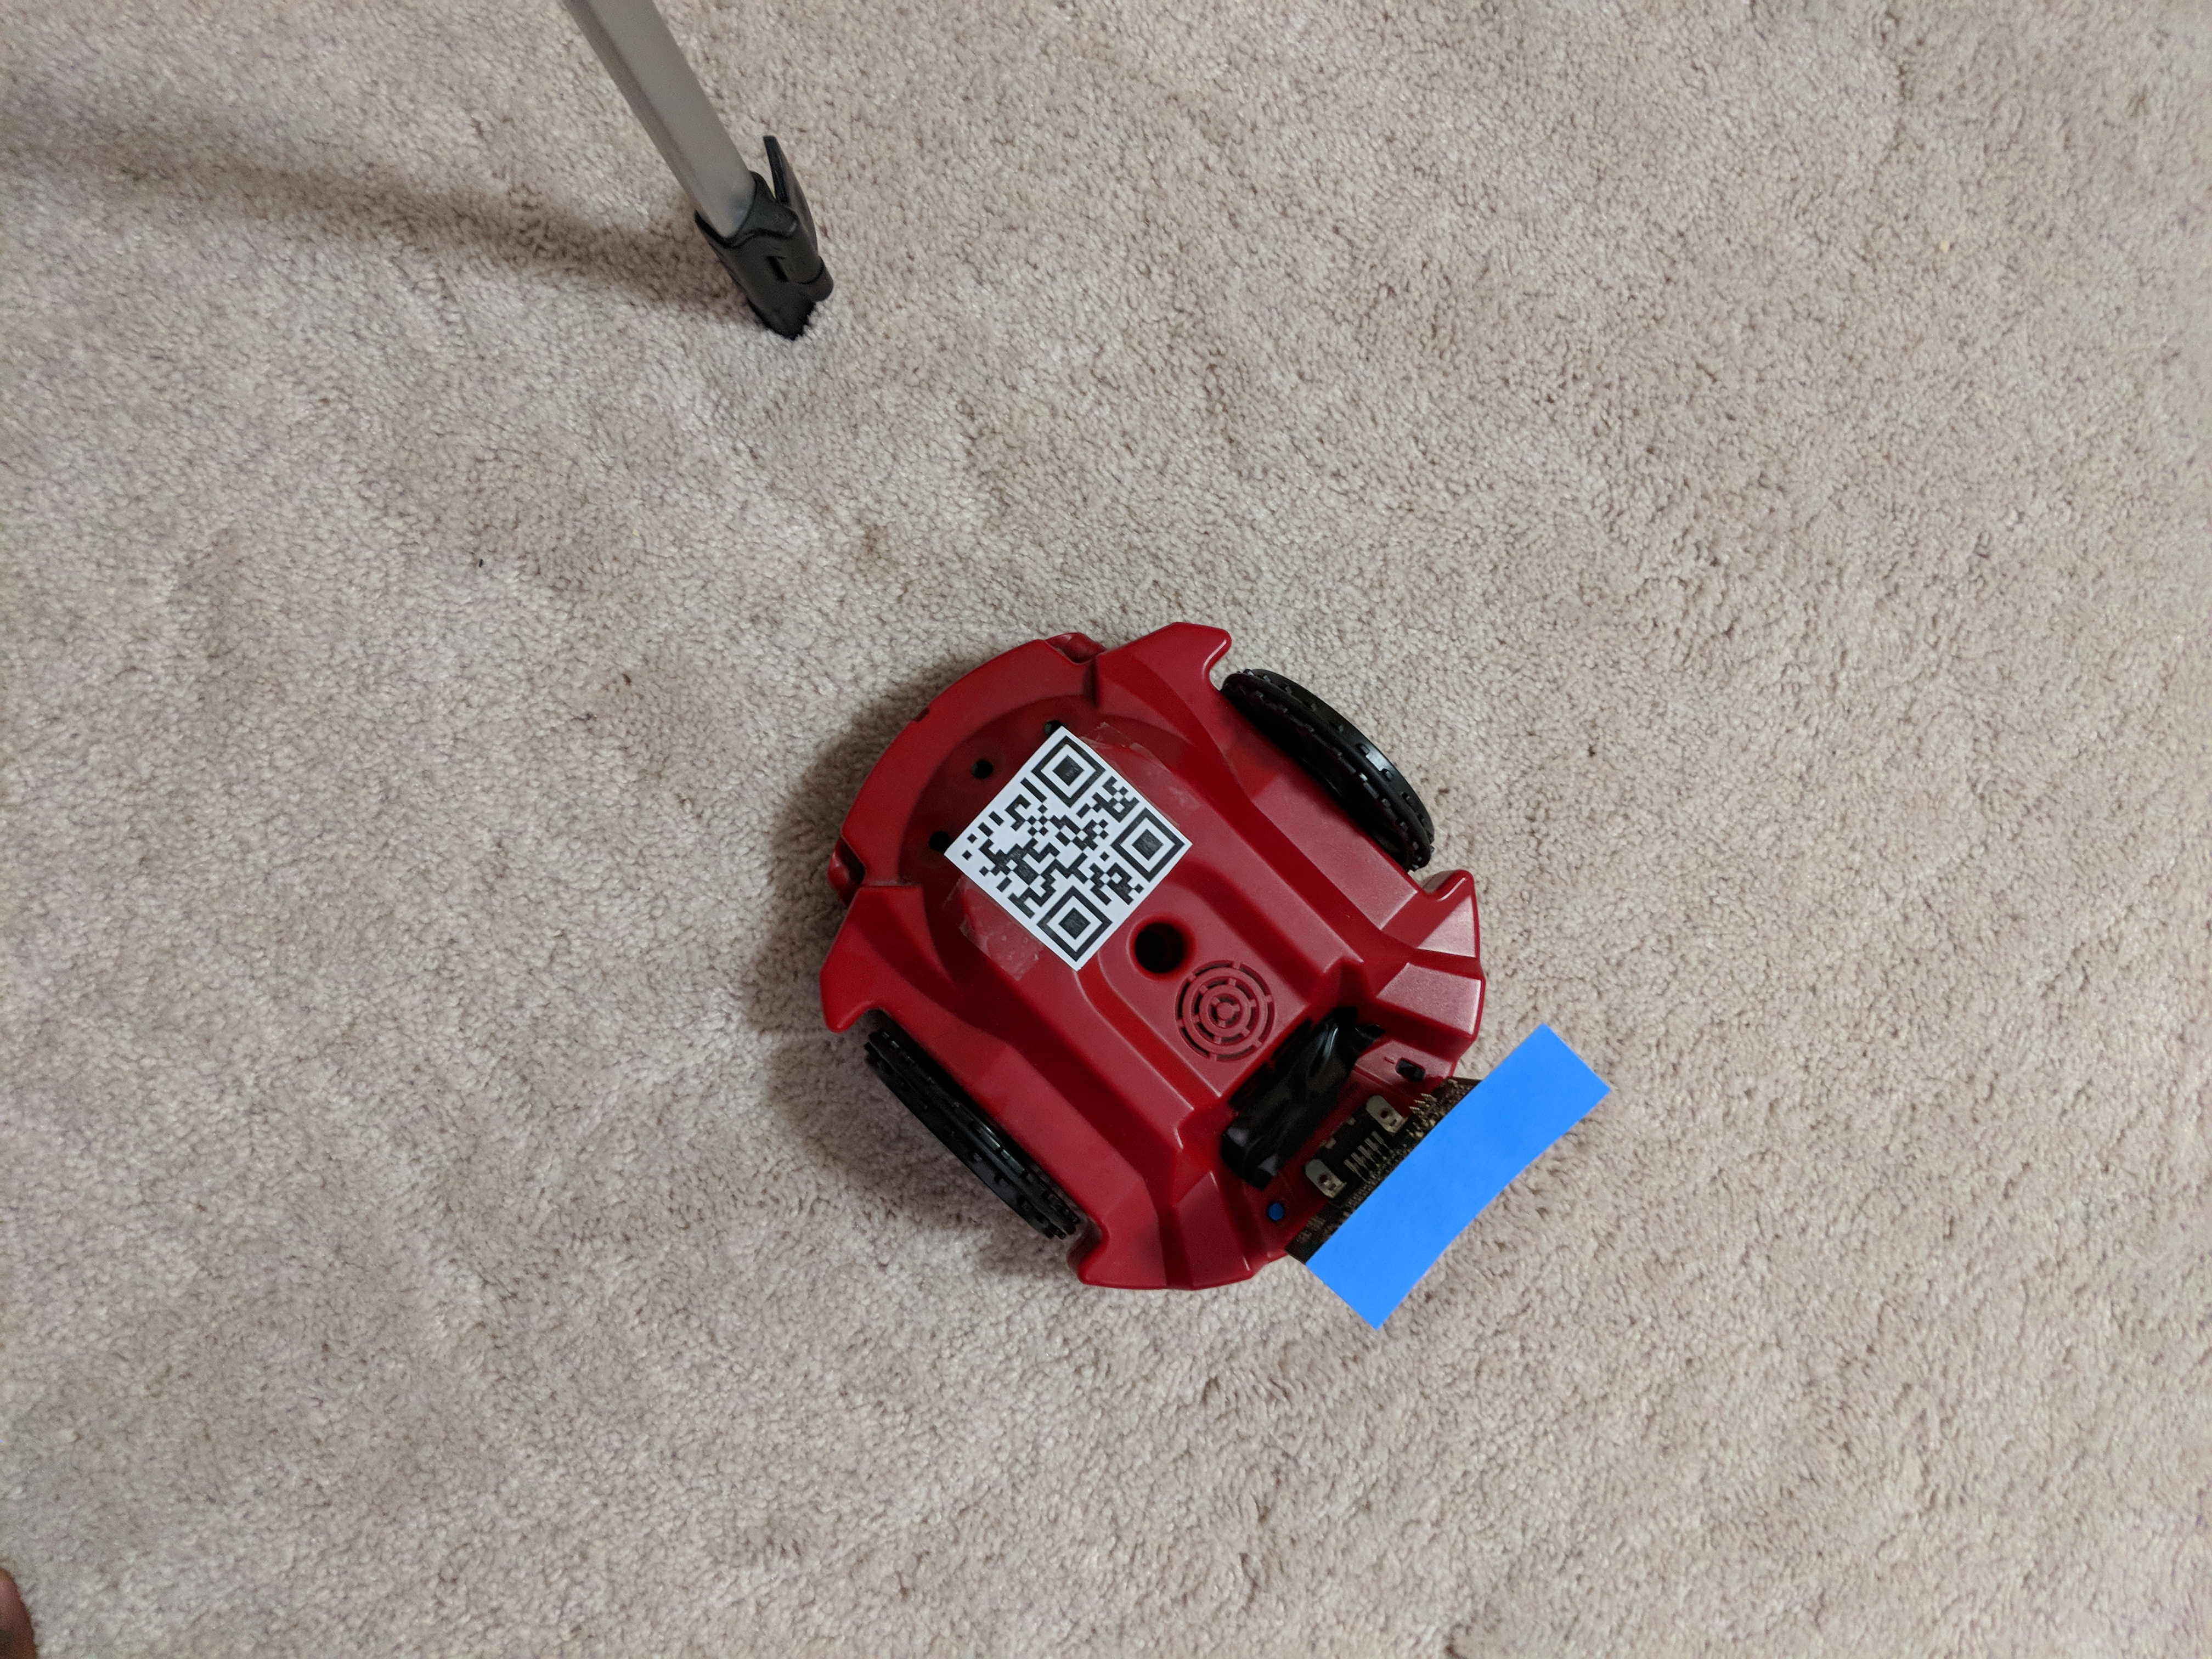board: (1301, 969, 1604, 1324)
chassis: (792, 598, 1629, 1328)
